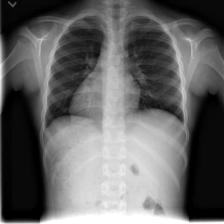normal: (43, 9, 186, 139)
